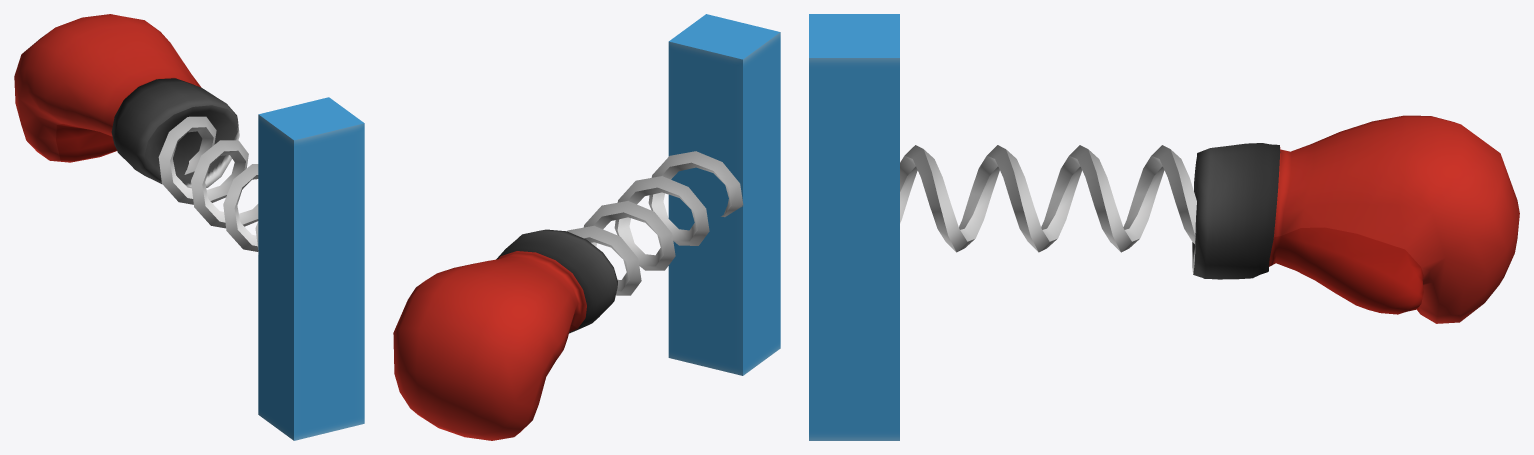
File: hurdle punch.fbx
The picture shows the model from 3 angles, left to right: view 1: azimuth 30°, elevation 25°; view 2: azimuth 150°, elevation 25°; view 3: azimuth 270°, elevation 25°; orthographic projection. The views are drawn at different scales.
Parts seen in each view (by area): view 1: base, glove, spring; view 2: base, glove, spring; view 3: glove, base, spring.
Boxes of the visible parts, x1,y1,x2,y2 form: base: (258, 97, 364, 440); glove: (14, 14, 239, 188); spring: (158, 116, 258, 254); base: (668, 14, 780, 375); glove: (393, 229, 617, 440); spring: (567, 151, 743, 295); glove: (1192, 115, 1519, 323); base: (809, 14, 899, 440); spring: (900, 145, 1196, 252).
Size of the model in its own units: 3.62 by 6.7 by 11.27.
1 material, 1 textured.
